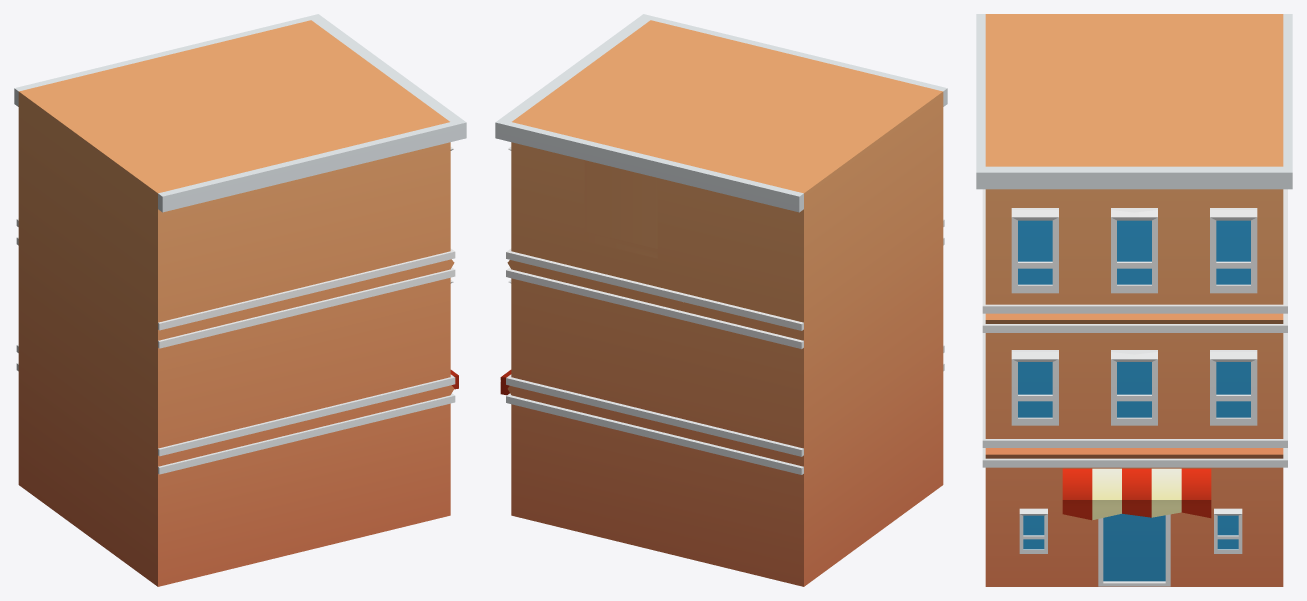
Rendered from building2.obj.
3 views of the same model, side by side, from view 1: azimuth 30°, elevation 25°; view 2: azimuth 150°, elevation 25°; view 3: azimuth 270°, elevation 25° (orthographic). The views are drawn at different scales.
Visible parts, largest first — view 1: Cube.002_Material_0; view 2: Cube.002_Material_0; view 3: Cube.002_Material_0, Cube.003_Material.002_0.
Part boxes in pixels (x1,y1,x2,y2): Cube.002_Material_0: (14,14,466,586); Cube.002_Material_0: (495,14,947,586); Cube.002_Material_0: (976,14,1292,586); Cube.003_Material.002_0: (1062,468,1211,520).
Bounding box in the file's own units: 55.88 × 62.38 × 42.57.
